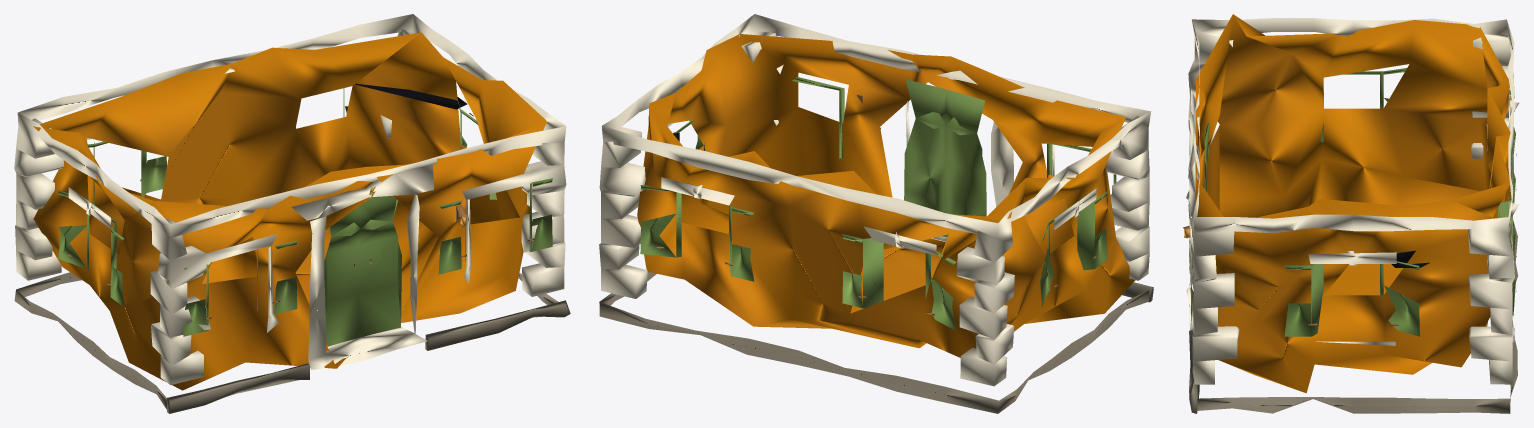
File: home_villa-walls_t2_ochre.glb
3 renders of one model, left to right at view 1: azimuth 30°, elevation 25°; view 2: azimuth 150°, elevation 25°; view 3: azimuth 270°, elevation 25°, orthographic. The views are drawn at different scales.
Parts seen in each view (by area): view 1: wall, trim, wood, base, interior; view 2: wall, trim, wood, base; view 3: wall, trim, base, wood.
Boxes of the visible parts, x1,y1,x2,y2 form: wall: (33,32,546,390); trim: (14,14,566,385); wood: (58,88,552,346); base: (14,272,570,413); interior: (355,83,467,109); wall: (637,34,1135,357); trim: (599,14,1151,386); wood: (640,77,1116,330); base: (599,272,1153,413); wall: (1195,14,1511,393); trim: (1186,18,1519,384); base: (1188,201,1517,413); wood: (1190,68,1515,336).
Size of the model in its own units: 6.46 by 2.99 by 4.49.
